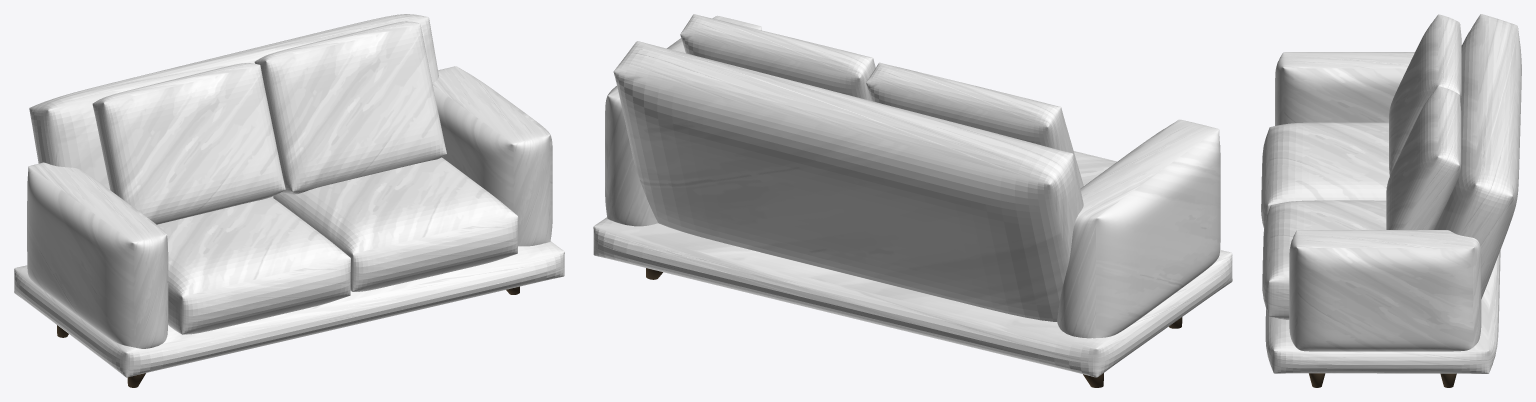
The model's file is Coconat.glb.
The picture shows the model from 3 angles, left to right: view 1: azimuth 30°, elevation 25°; view 2: azimuth 150°, elevation 25°; view 3: azimuth 270°, elevation 25°; orthographic projection. The views are drawn at different scales.
Visible parts, largest first — view 1: Cube.007, Cube.006, Cube.003, Cube.002, Cube.005, Cube.004, Cube.017, Cube.018; view 2: Cube.018, Cube.004, Cube.002, Cube.006, Cube.007, Cube.017, Cube.005; view 3: Cube.017, Cube.018, Cube.005, Cube.002, Cube.007, Cube.004, Cube.003, Cube.006.
Boxes of the visible parts, x1,y1,x2,y2 form: Cube.007: (254, 21, 446, 194); Cube.006: (92, 63, 285, 224); Cube.003: (273, 157, 518, 291); Cube.002: (27, 162, 168, 348); Cube.005: (157, 197, 350, 334); Cube.004: (14, 241, 564, 377); Cube.017: (432, 66, 552, 246); Cube.018: (29, 14, 438, 197); Cube.018: (613, 41, 1083, 321); Cube.004: (593, 217, 1232, 377); Cube.002: (1057, 119, 1220, 338); Cube.006: (866, 62, 1083, 188); Cube.007: (680, 14, 875, 100); Cube.017: (605, 15, 761, 226); Cube.005: (1074, 151, 1116, 185); Cube.017: (1289, 230, 1481, 351); Cube.018: (1434, 14, 1521, 298); Cube.005: (1261, 122, 1389, 228); Cube.002: (1275, 52, 1414, 125); Cube.007: (1386, 86, 1461, 229); Cube.004: (1265, 250, 1500, 373); Cube.003: (1262, 200, 1386, 319); Cube.006: (1389, 14, 1461, 176).
Bounding box in the file's own units: 4.54 × 2.22 × 2.41.
Materials: 3 (1 with a texture image).
